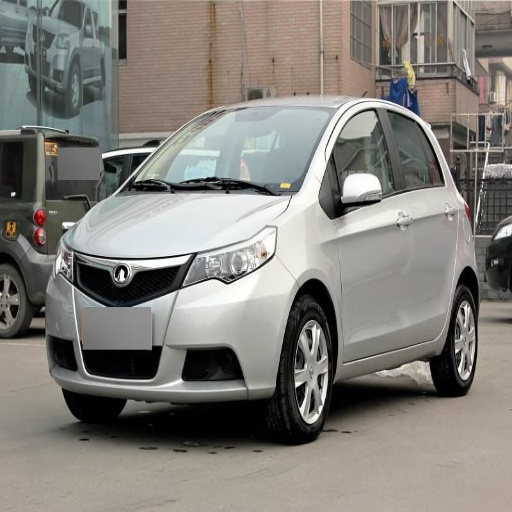front_bumper: (47, 248, 296, 403)
front_glass: (120, 108, 332, 194)
front_left_door: (328, 103, 412, 362)
